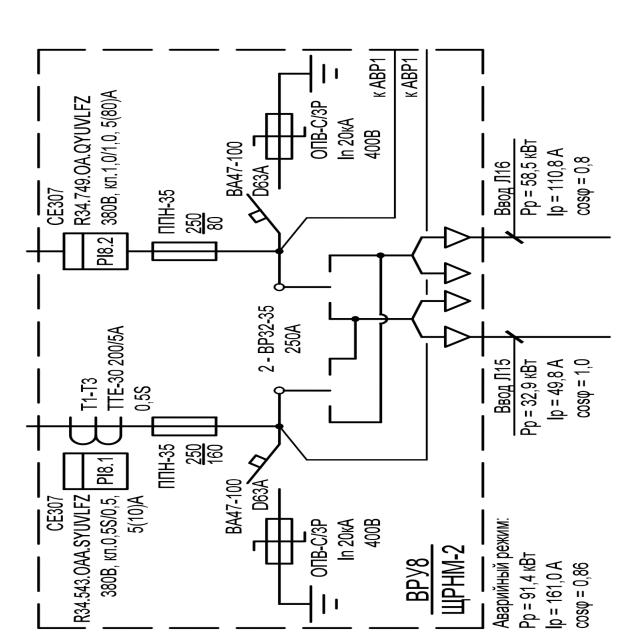-: (40, 492, 150, 624), (46, 85, 126, 226), (309, 512, 385, 582), (405, 542, 471, 618), (105, 323, 157, 412), (308, 100, 382, 162), (155, 439, 226, 492), (156, 188, 227, 236), (224, 139, 276, 198), (221, 477, 270, 534), (281, 324, 304, 356)
FU: (148, 416, 223, 440), (149, 240, 221, 262)
FV: (249, 514, 310, 566), (250, 110, 307, 164)
QF: (245, 444, 287, 495), (245, 184, 287, 234)
TT: (65, 414, 128, 448)
WH: (60, 229, 132, 272), (61, 449, 133, 492)
switch: (285, 363, 349, 418), (281, 266, 349, 311)
